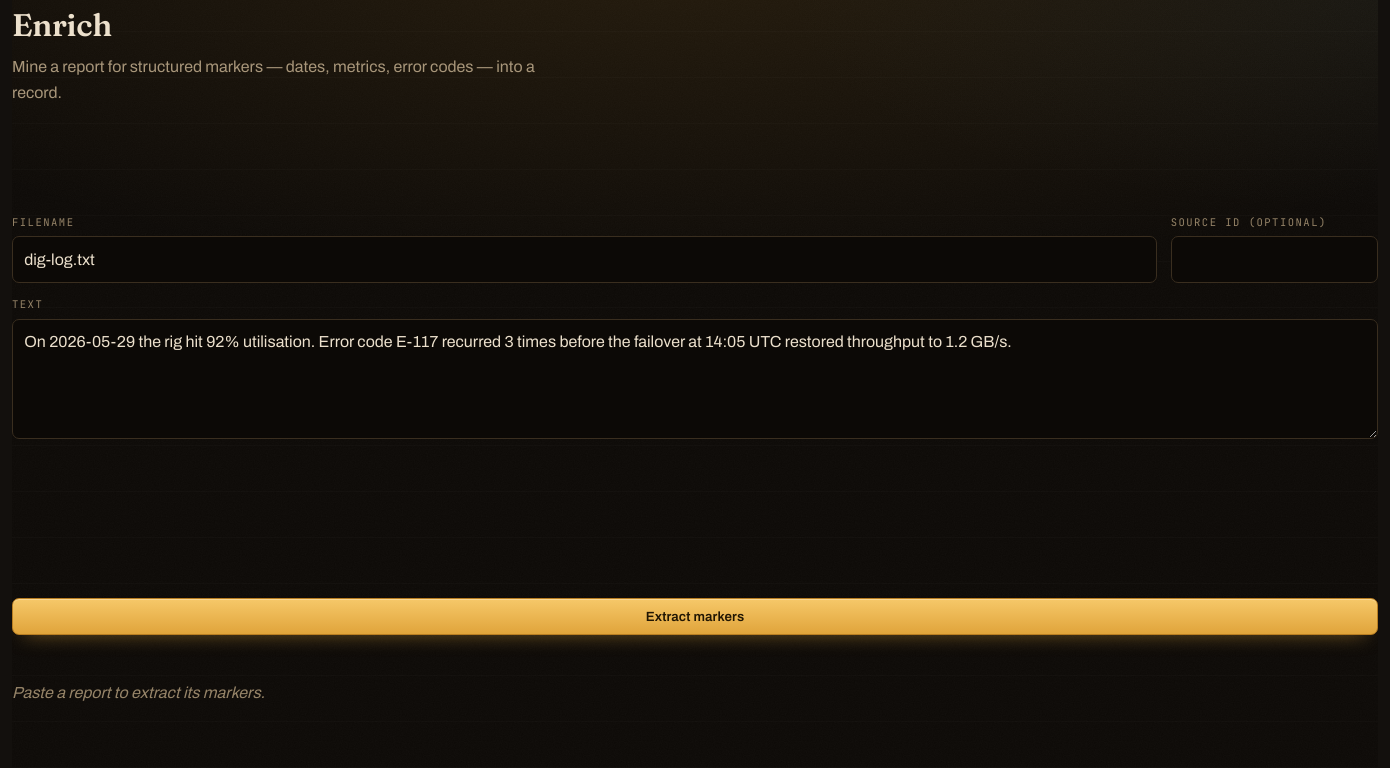
EnrichPanel › surfaces an error
Click the button "Extract markers".
click(695, 616)  # box [12, 598, 1378, 635]
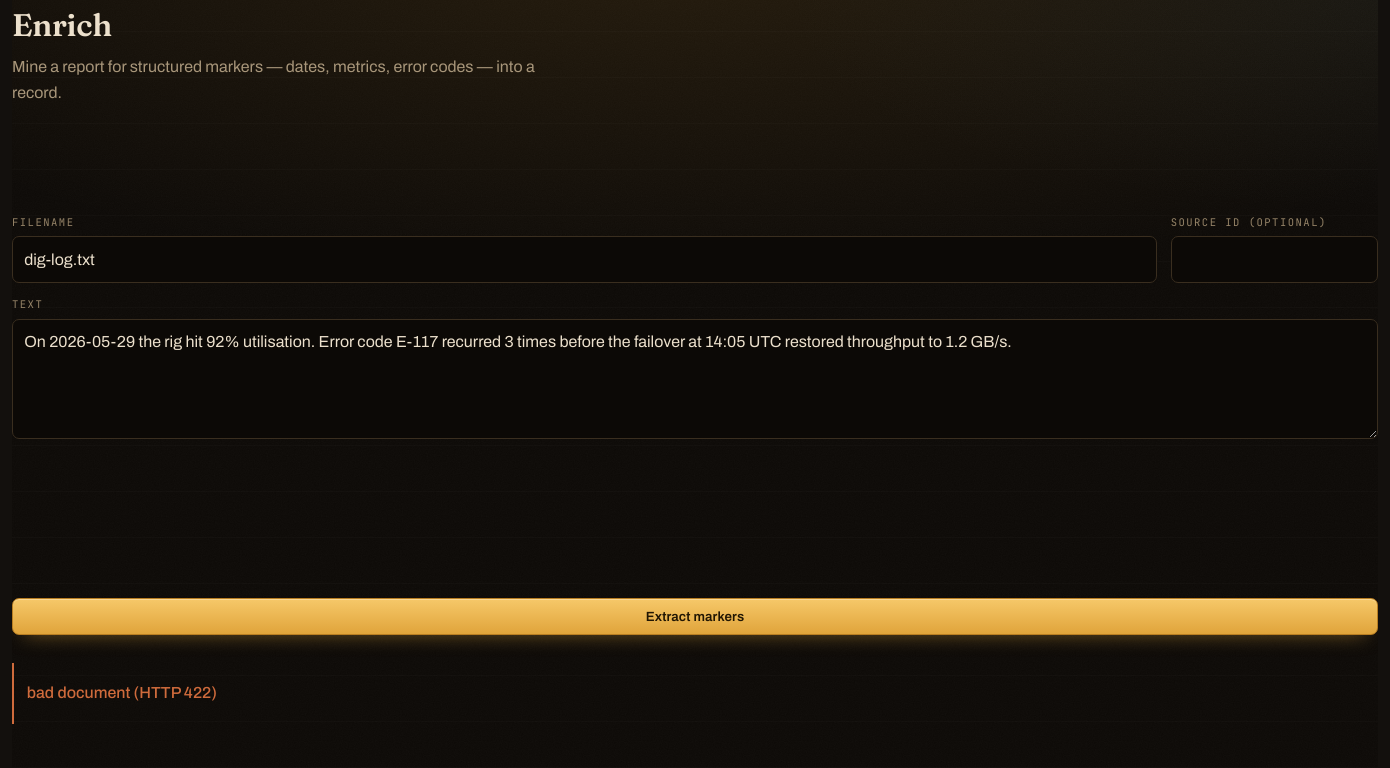
Now the message shows "bad document", box [27, 684, 217, 701]
